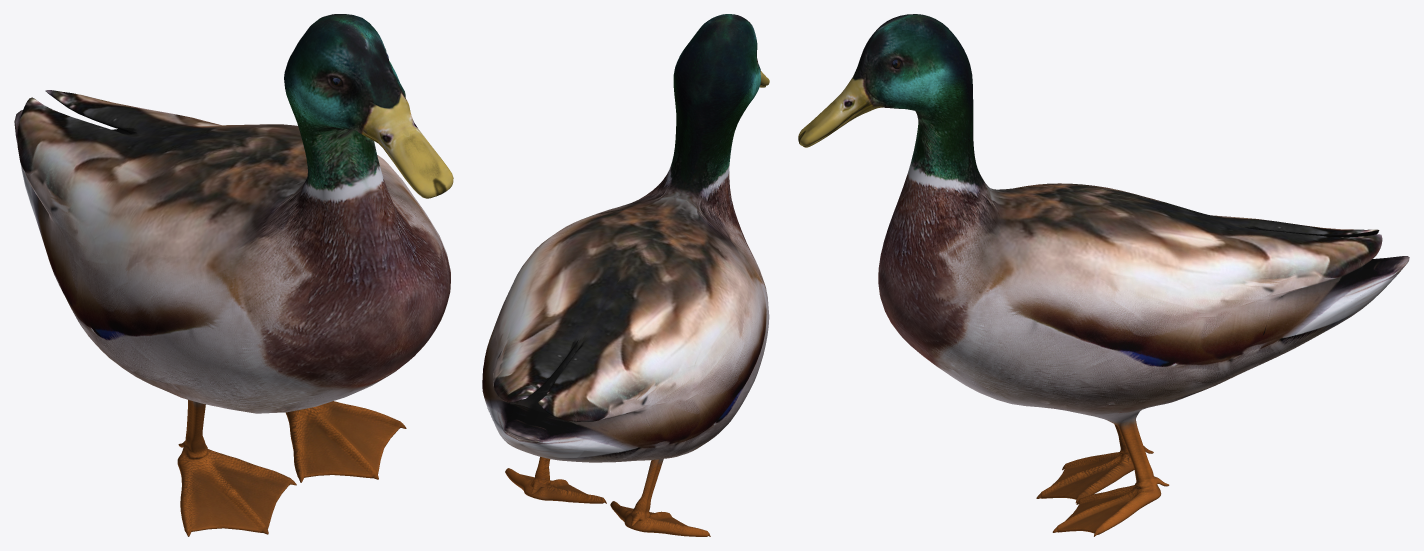
The model's file is duck.obj.
3 views of the same model, side by side, from view 1: azimuth 30°, elevation 25°; view 2: azimuth 150°, elevation 25°; view 3: azimuth 270°, elevation 25° (orthographic). The views are drawn at different scales.
Visible parts, largest first — view 1: 12248_Bird_v1; view 2: 12248_Bird_v1; view 3: 12248_Bird_v1.
Boxes of the visible parts, x1,y1,x2,y2 form: 12248_Bird_v1: (14, 14, 453, 536); 12248_Bird_v1: (482, 14, 769, 536); 12248_Bird_v1: (798, 14, 1409, 536).
Bounding box in the file's own units: 29.54 × 55.08 × 63.13.
1 material, 1 textured.
